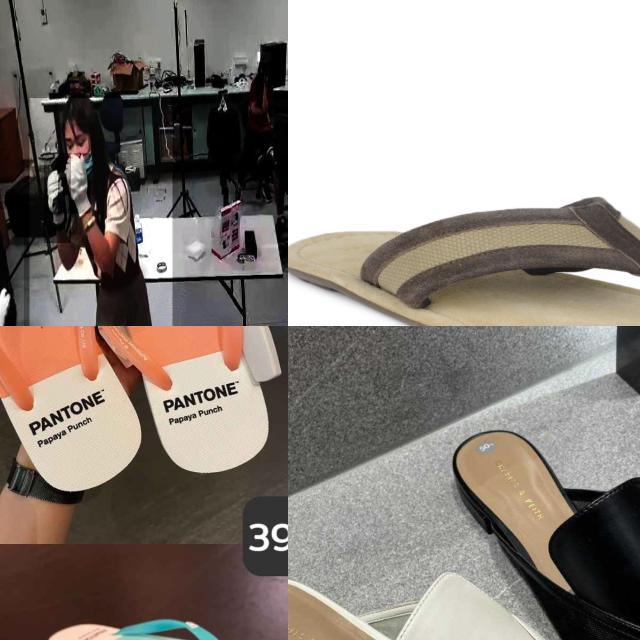Sandals: (441, 402, 640, 640), (288, 195, 640, 326), (288, 552, 640, 640), (0, 591, 288, 640)
face_nomask: (260, 64, 268, 78)
hand_glove: (44, 158, 71, 243), (58, 153, 90, 214)
hand_noglove: (262, 70, 268, 84)
head_nohelmet: (58, 91, 96, 124), (257, 52, 271, 62)
person: (29, 98, 172, 326), (241, 35, 279, 197)
